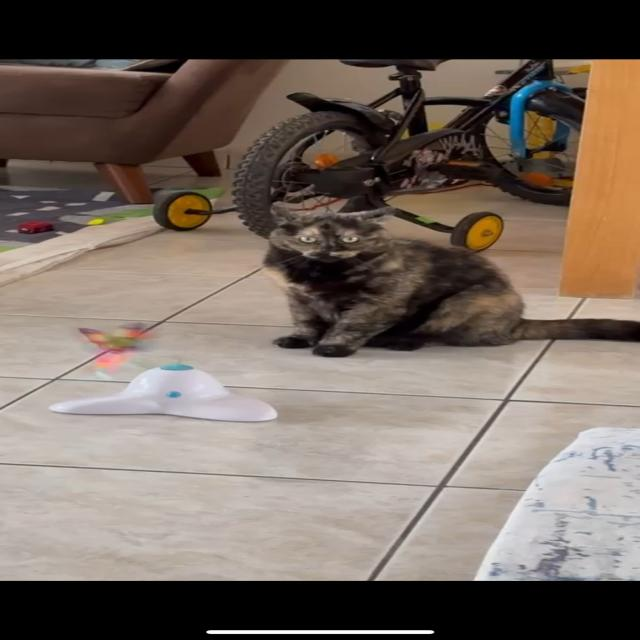authorized: (261, 201, 638, 358)
